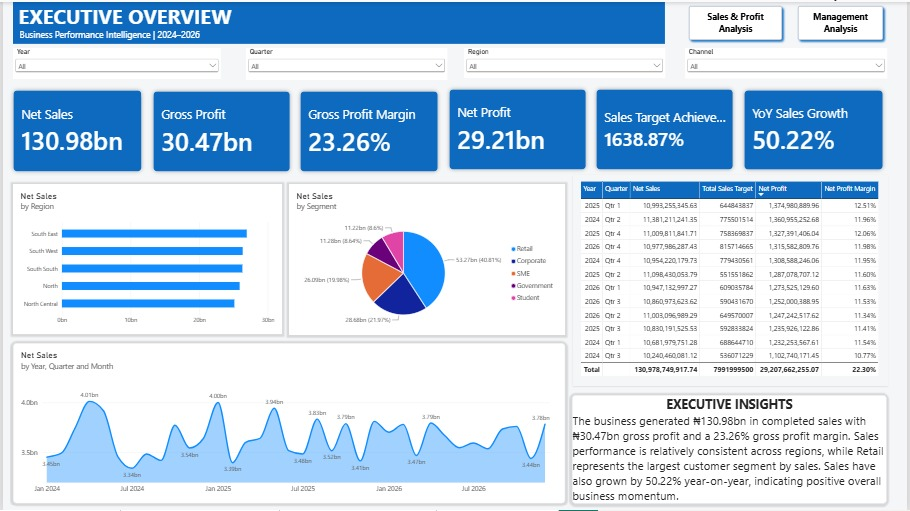

This screenshot's page, from the dashboard's own definition file:
{"tool":"powerbi","page":{"name":"Executive  Overview","canvas":[1920,1080],"ordinal":0},"visuals":[{"type":"cardVisual","fields":{"Data":["Dim_Customers.Completed Sales"]},"box":[11.6,176.1,295.5,195.6],"z":0},{"type":"cardVisual","fields":{"Data":["Dim_Customers.Gross Profit"]},"box":[307.7,178.1,313.8,193.2],"z":1000},{"type":"cardVisual","fields":{"Data":["Dim_Customers.Gross Profit Margin"]},"box":[621.3,178.1,315.8,193.2],"z":2000},{"type":"cardVisual","fields":{"Data":["Dim_Customers.Net Profit"]},"box":[936.8,174.2,313.8,193.2],"z":3000},{"type":"cardVisual","fields":{"Data":["Dim_Customers.Sales Target Achievement"]},"box":[1250.3,174.2,313.8,193.2],"z":4000},{"type":"lineChart","fields":{"Category":["Dim_Date.Date.Variation.Date Hierarchy.Year","Dim_Date.Date.Variation.Date Hierarchy.Quarter","Dim_Date.Date.Variation.Date Hierarchy.Month"],"Y":["Dim_Customers.Completed Sales"]},"box":[21.3,725,1174,340.8],"z":5000},{"type":"tableEx","fields":{"Values":["Dim_Date.Date.Variation.Date Hierarchy.Year","Dim_Date.Date.Variation.Date Hierarchy.Quarter","Dim_Customers.Completed Sales","Dim_Customers.Total Sales Target","Dim_Customers.Net Profit","Dim_Customers.Net Profit Margin"]},"box":[1211.6,367.7,669.1,448.8],"z":6000},{"type":"clusteredBarChart","fields":{"Category":["Dim_Customers.Region"],"Y":["Dim_Customers.Completed Sales"]},"box":[21.3,386.9,571.9,318.9],"z":7000},{"type":"cardVisual","fields":{"Data":["Dim_Customers.YoY Sales Growth"]},"box":[1563.9,176.1,317.4,191.6],"z":8000},{"type":"slicer","fields":{"Values":["Dim_Date.Date.Variation.Date Hierarchy.Year"]},"box":[21.3,97.8,442.2,65.9],"z":9000},{"type":"slicer","fields":{"Values":["Dim_Date.Date.Variation.Date Hierarchy.Quarter"]},"box":[517.5,97.5,428,68],"z":10000},{"type":"slicer","fields":{"Values":["Dim_Customers.Region"]},"box":[980,97.5,428,64],"z":11000},{"type":"slicer","fields":{"Values":["Fact_Sales.Channel"]},"box":[1450,97.5,430,65],"z":12000},{"type":"textbox","box":[21.3,0,1386.1,89.3],"z":13000},{"type":"pieChart","fields":{"Category":["Dim_Customers.Segment"],"Y":["Dim_Customers.Completed Sales"]},"box":[608,386.9,586.8,321],"z":14000},{"type":"actionButton","box":[1449.9,0,214.7,89.3],"z":15000},{"type":"actionButton","box":[1681.7,0,197.7,89.3],"z":16000},{"type":"textbox","box":[1209,835,669,231],"z":17000}]}

Visuals, with their boxes in screenshot pixels (x1, y1, x2, y2), scaled from the page's 1920x1080 canvas onto the 910x511 screenshot:
cardVisual - Dim_Customers.Completed Sales: region(5, 83, 146, 176)
cardVisual - Dim_Customers.Gross Profit: region(146, 84, 295, 176)
cardVisual - Dim_Customers.Gross Profit Margin: region(294, 84, 444, 176)
cardVisual - Dim_Customers.Net Profit: region(444, 82, 593, 174)
cardVisual - Dim_Customers.Sales Target Achievement: region(593, 82, 741, 174)
lineChart - Dim_Date.Date.Variation.Date Hierarchy.Year x Dim_Date.Date.Variation.Date Hierarchy.Quarter: region(10, 343, 567, 504)
tableEx - Dim_Date.Date.Variation.Date Hierarchy.Year x Dim_Date.Date.Variation.Date Hierarchy.Quarter: region(574, 174, 891, 386)
clusteredBarChart - Dim_Customers.Region x Dim_Customers.Completed Sales: region(10, 183, 281, 334)
cardVisual - Dim_Customers.YoY Sales Growth: region(741, 83, 892, 174)
slicer - Dim_Date.Date.Variation.Date Hierarchy.Year: region(10, 46, 220, 77)
slicer - Dim_Date.Date.Variation.Date Hierarchy.Quarter: region(245, 46, 448, 78)
slicer - Dim_Customers.Region: region(464, 46, 667, 76)
slicer - Fact_Sales.Channel: region(687, 46, 891, 77)
textbox: region(10, 0, 667, 42)
pieChart - Dim_Customers.Segment x Dim_Customers.Completed Sales: region(288, 183, 566, 335)
actionButton: region(687, 0, 789, 42)
actionButton: region(797, 0, 891, 42)
textbox: region(573, 395, 890, 504)
